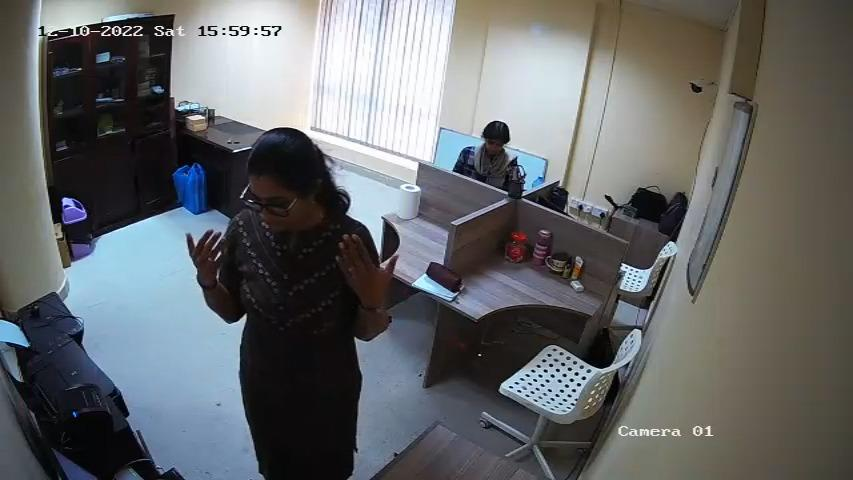no_gloves: (333, 230, 398, 312), (179, 225, 231, 282)
